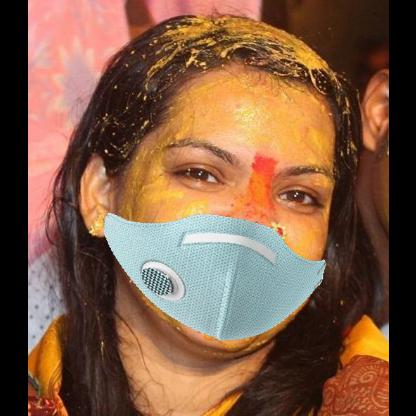FFP Mask: (86, 34, 336, 346)
